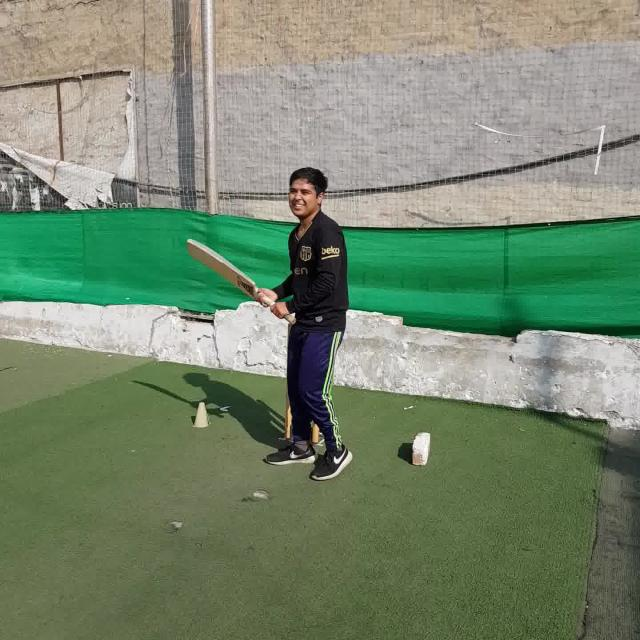bat: (188, 237, 295, 325)
